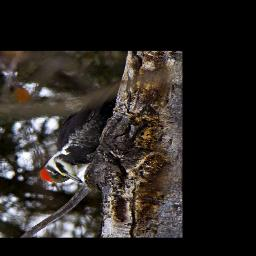Woodpecker: (36, 94, 115, 185)
